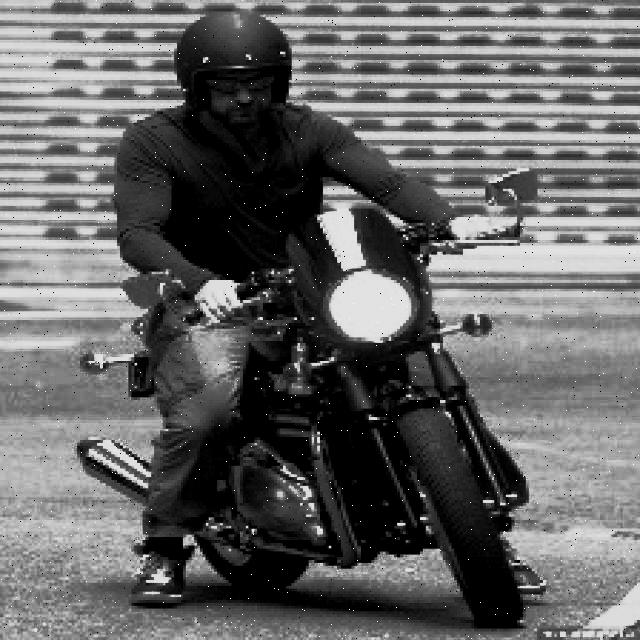Bike: (199, 252, 549, 627)
